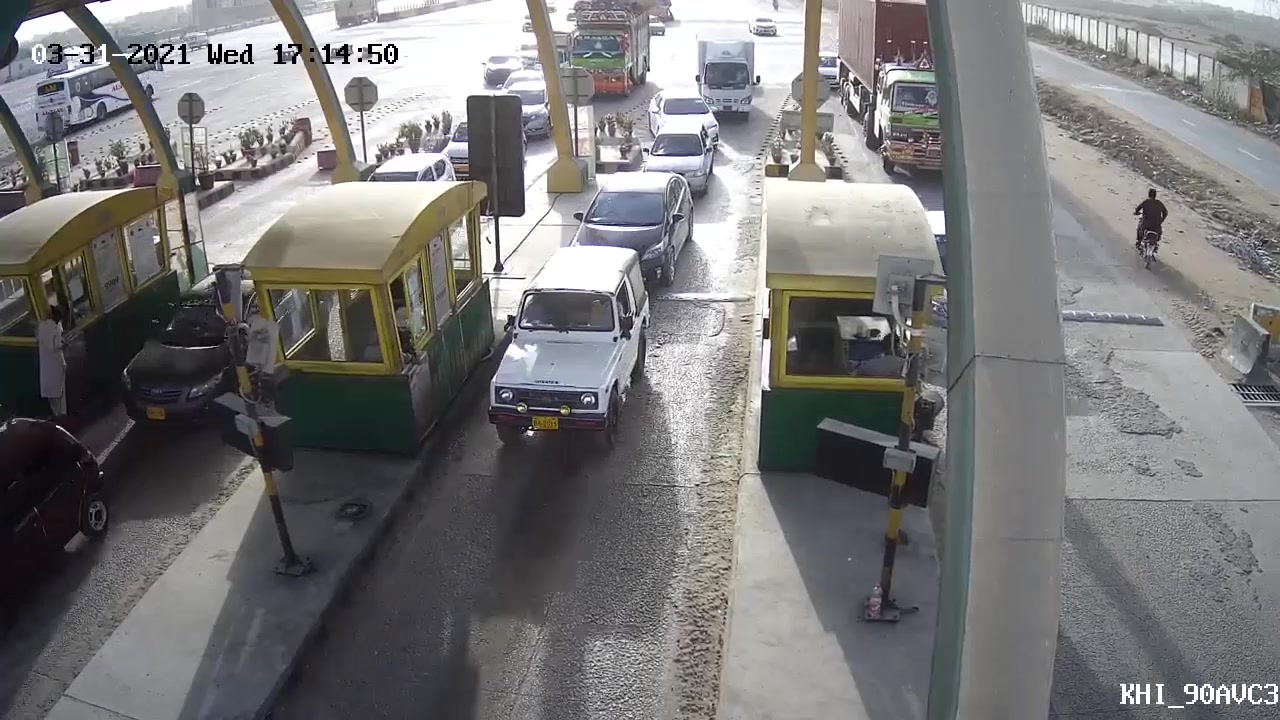F1: (480, 249, 647, 452), (577, 169, 697, 279)
